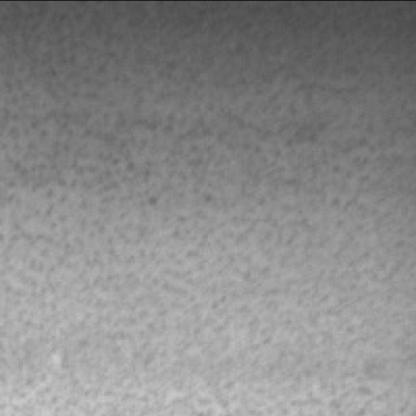pitted_surface: (0, 173, 408, 416), (0, 2, 385, 233)
